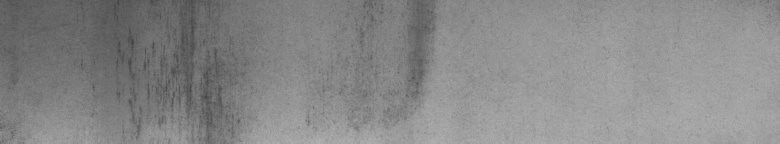ka: (81, 18, 244, 136)
